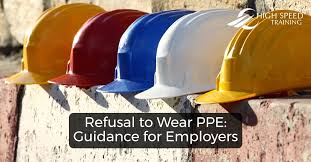Helmet: (201, 17, 303, 126), (136, 22, 220, 102), (10, 3, 86, 87), (99, 21, 171, 101), (69, 12, 123, 90)
